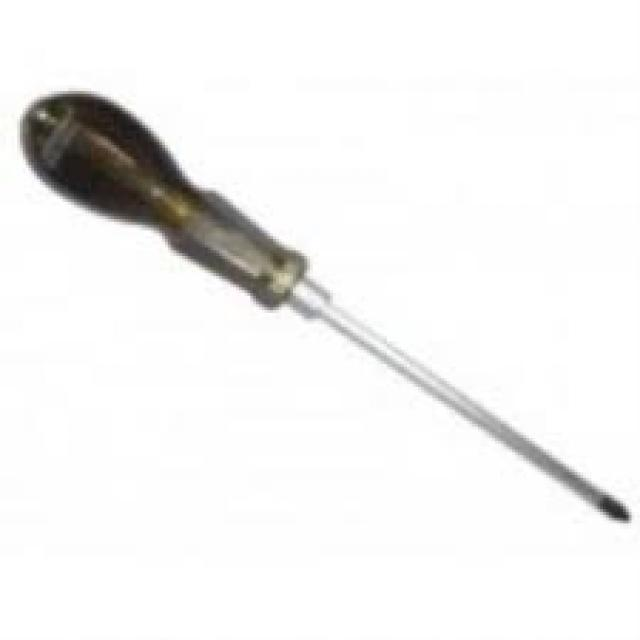screwdriver: (79, 117, 630, 440)
